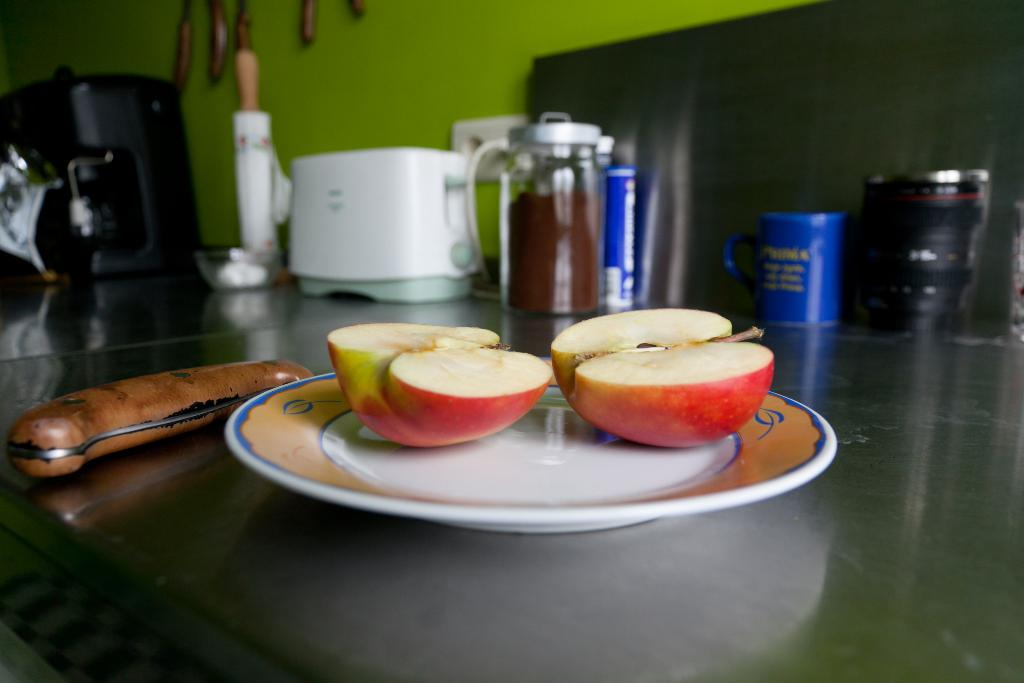Apple: (563, 311, 780, 452), (323, 319, 555, 445)
